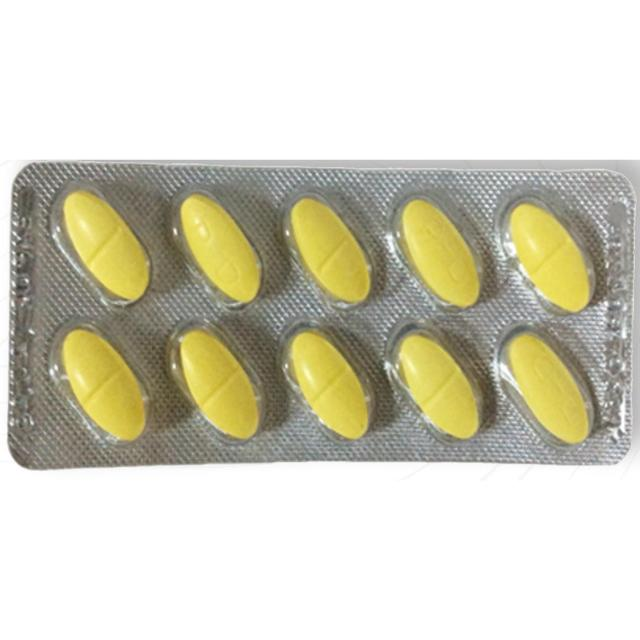blister: (7, 152, 637, 472)
